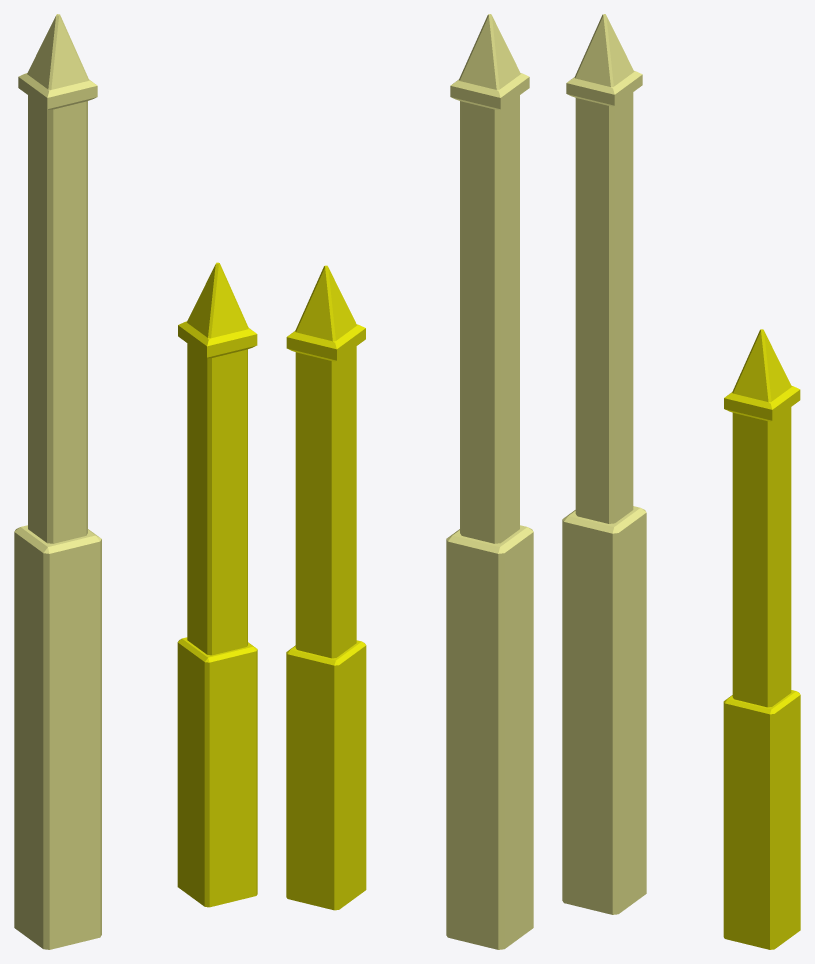
The model's file is Pilars.fbx.
The picture shows the model from 3 angles, left to right: view 1: azimuth 30°, elevation 25°; view 2: azimuth 150°, elevation 25°; view 3: azimuth 330°, elevation 25°; orthographic projection. The views are drawn at different scales.
Parts seen in each view (by area): view 1: Big_Pillar, Pillar_Small; view 2: Big_Pillar, Pillar_Small; view 3: Big_Pillar, Pillar_Small.
Boxes of the visible parts, x1=… form: Big_Pillar: x1=14, y1=14, x2=101, y2=949; Pillar_Small: x1=177, y1=262, x2=257, y2=907; Big_Pillar: x1=446, y1=14, x2=533, y2=949; Pillar_Small: x1=286, y1=265, x2=366, y2=910; Big_Pillar: x1=562, y1=14, x2=646, y2=914; Pillar_Small: x1=723, y1=329, x2=800, y2=949.
Bounding box in the file's own units: 4.22 × 17.02 × 1.15.
